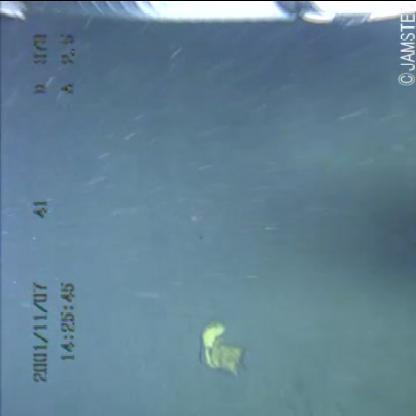Rov: (1, 1, 415, 30)
Rác: (200, 312, 248, 382)
